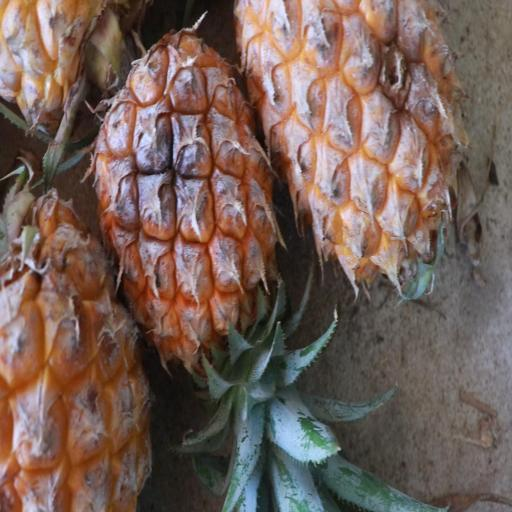Pineapple - v8 v1: (91, 26, 280, 440), (226, 0, 466, 309), (0, 170, 155, 512)
